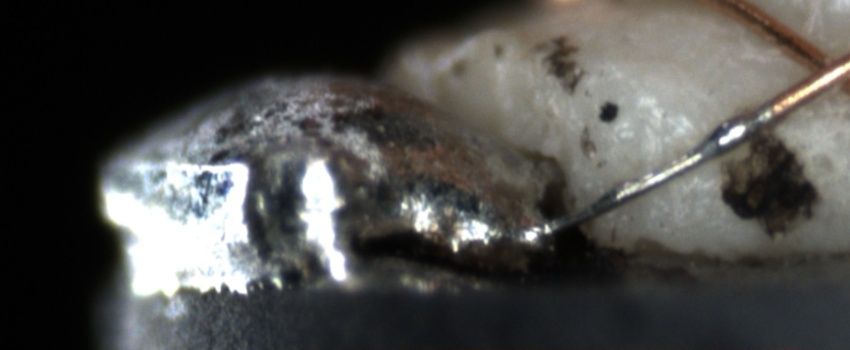CL: (791, 37, 850, 105)
DL: (670, 98, 850, 143)
TS: (548, 103, 774, 233)
TTCW: (549, 82, 809, 240)
